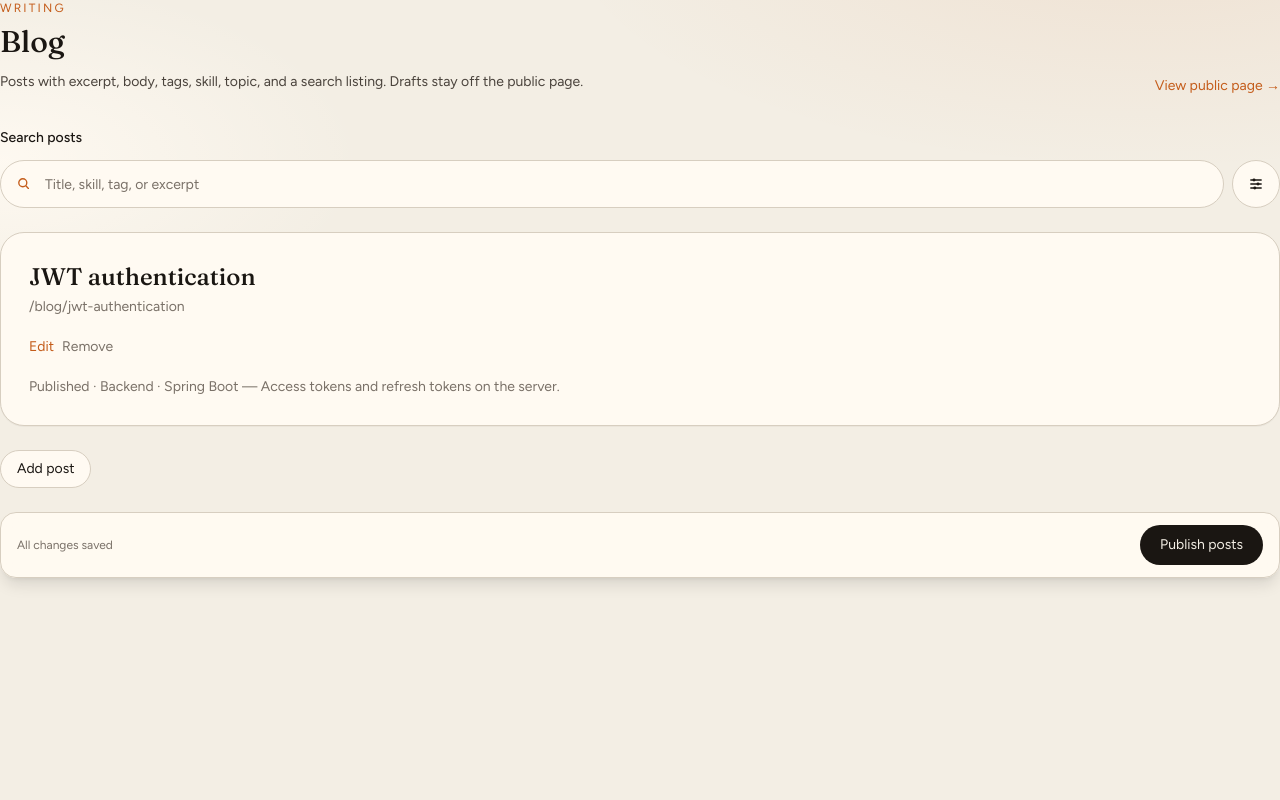
it: AdminBlogsPage › blocks publish when a new post is still empty
Click the button "Add post" at (46, 469), box [0,450,92,488]
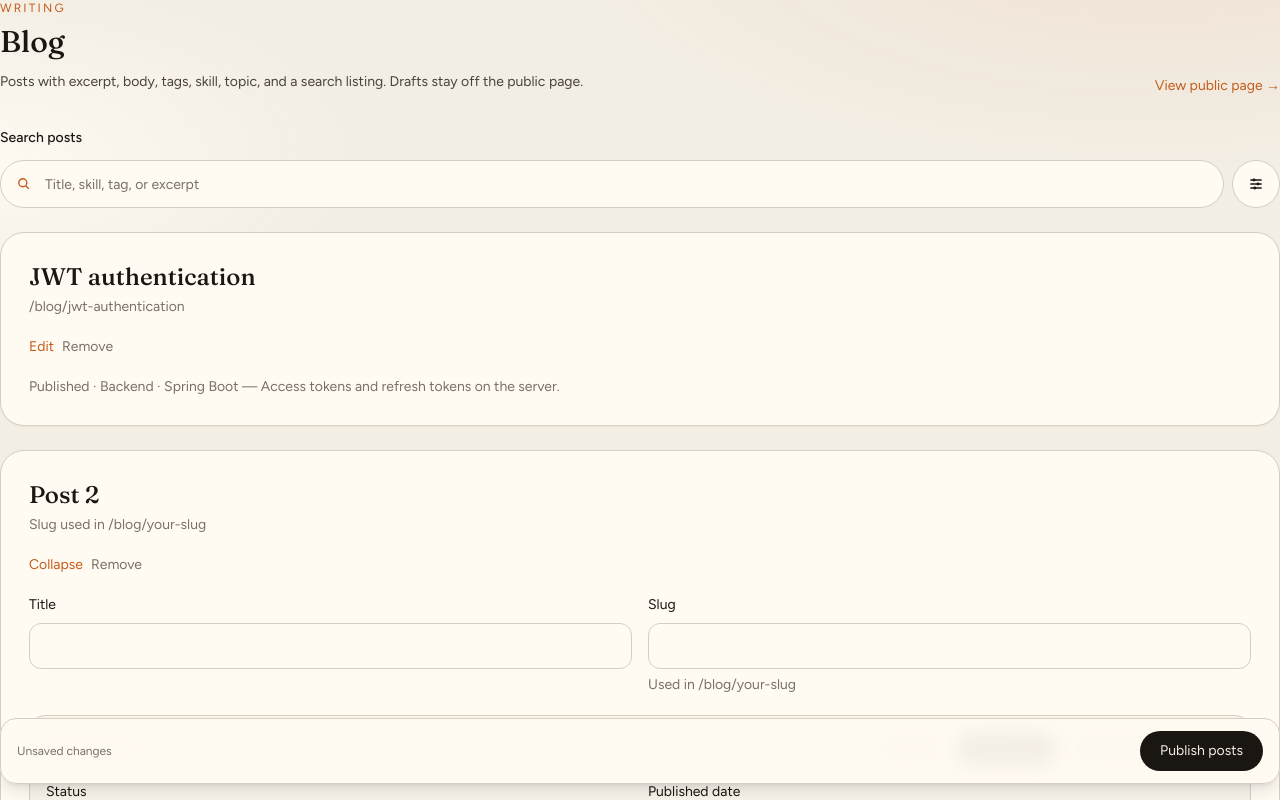
Click the button "Publish posts" at (1202, 751), box [1140,731,1263,771]
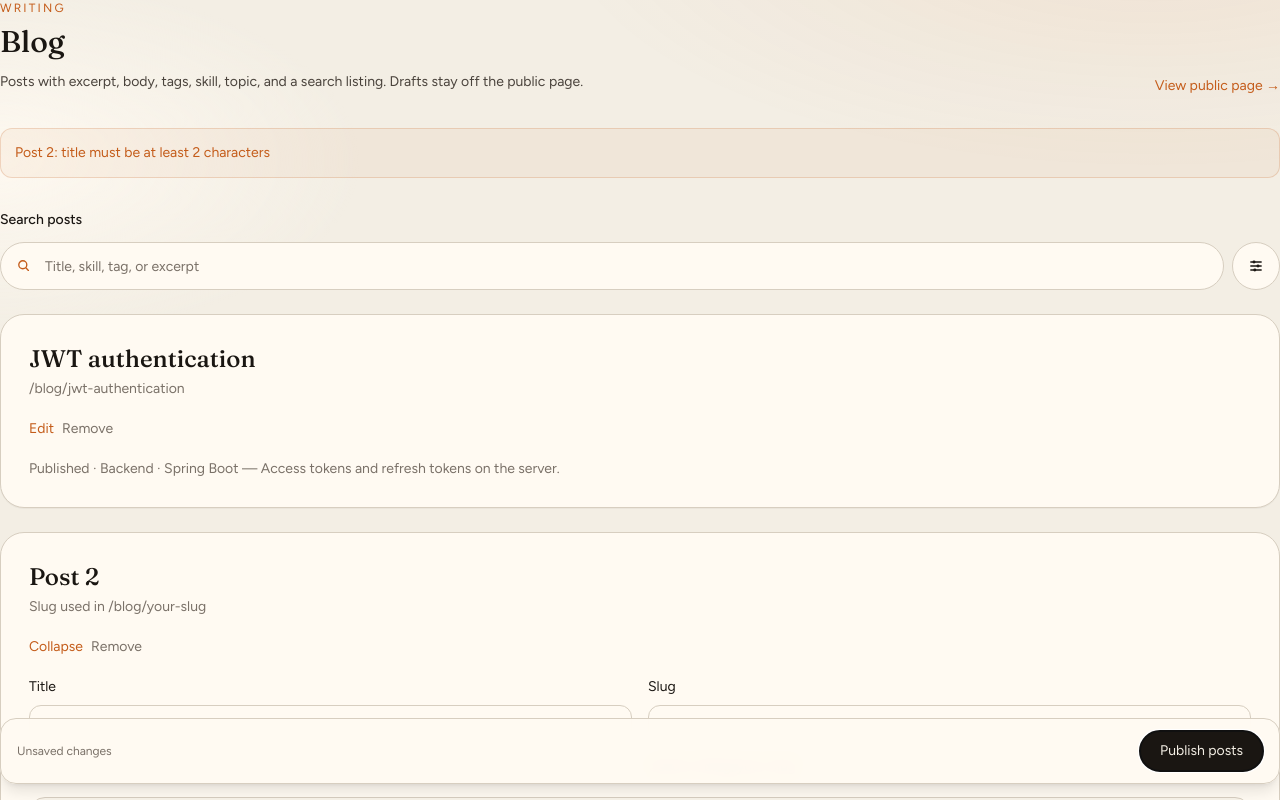
Expected: the message shows "title must be at least 2 characters", [15,144,270,161]
